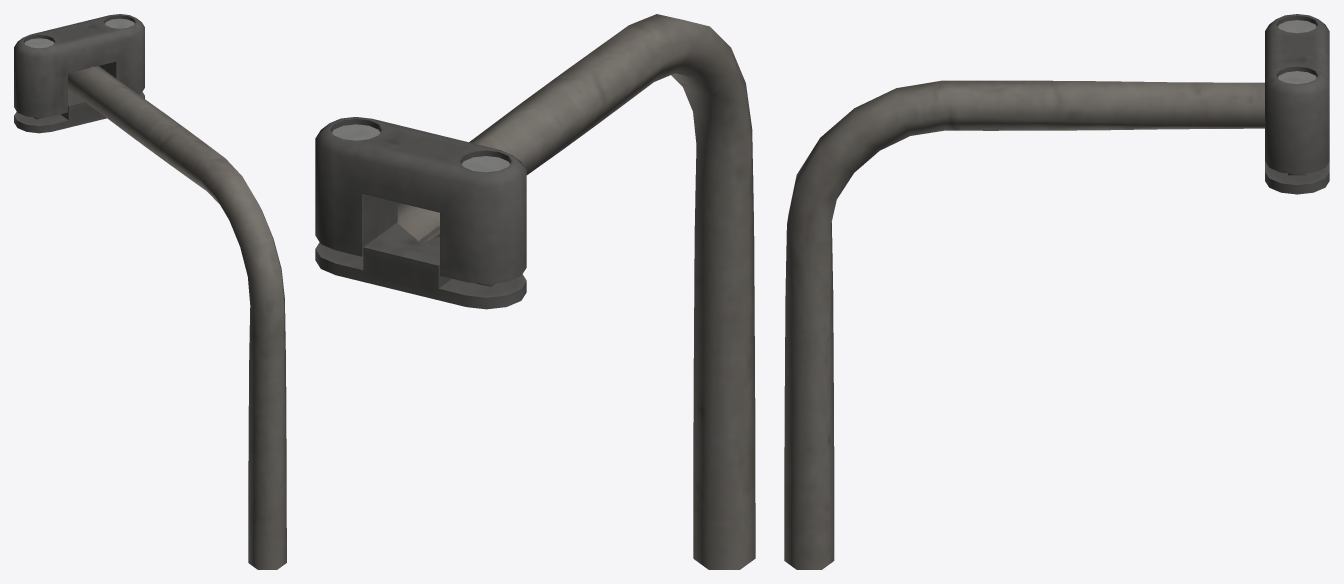
The model's file is cable_cable_corner_away.fbx.
The picture shows the model from 3 angles, left to right: view 1: azimuth 30°, elevation 25°; view 2: azimuth 150°, elevation 25°; view 3: azimuth 270°, elevation 25°; orthographic projection. The views are drawn at different scales.
Visible parts, largest first — view 1: modular_electric_cables__cable_corner_away; view 2: modular_electric_cables__cable_corner_away; view 3: modular_electric_cables__cable_corner_away.
Part boxes in pixels (box(x1,y1,x2,y2)): modular_electric_cables__cable_corner_away: box(14, 14, 286, 569); modular_electric_cables__cable_corner_away: box(315, 14, 755, 569); modular_electric_cables__cable_corner_away: box(784, 14, 1329, 569).
Bounding box in the file's own units: 0.0416 × 0.1259 × 0.1219.
